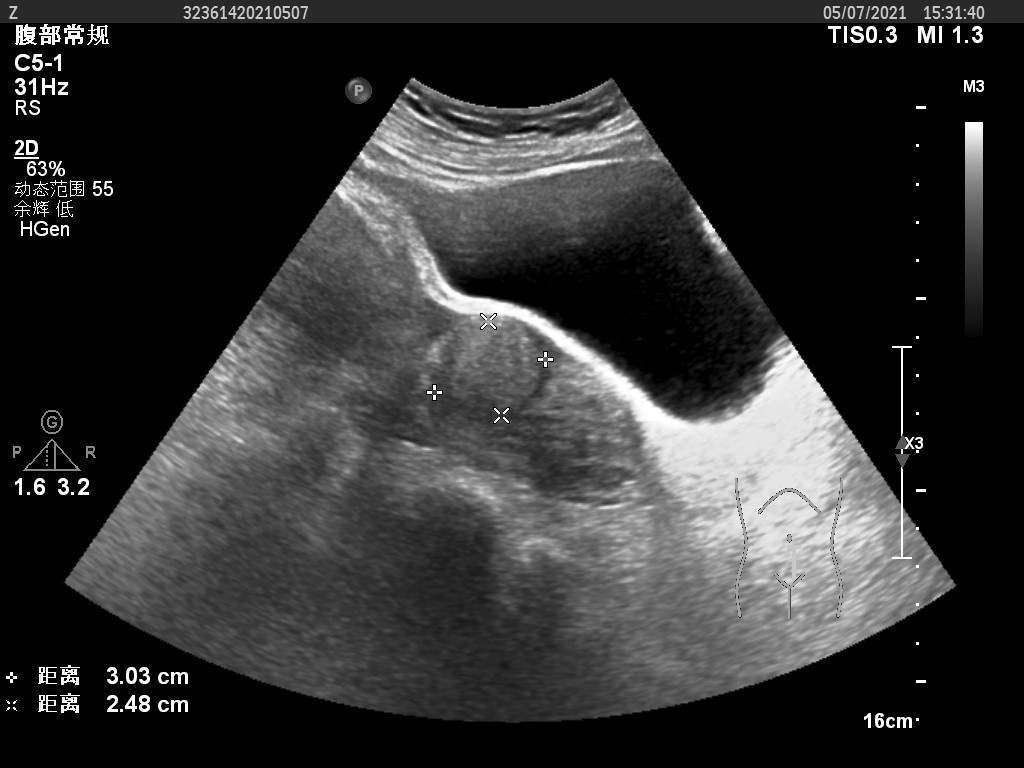肌瘤: (441, 322, 536, 406)
